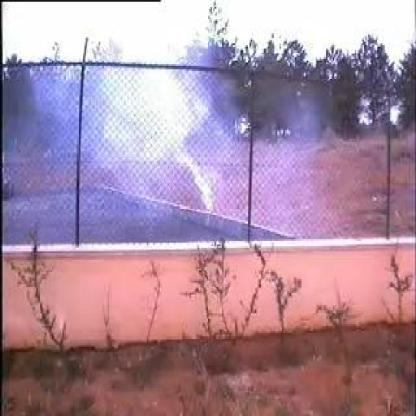-: (22, 65, 222, 233)
